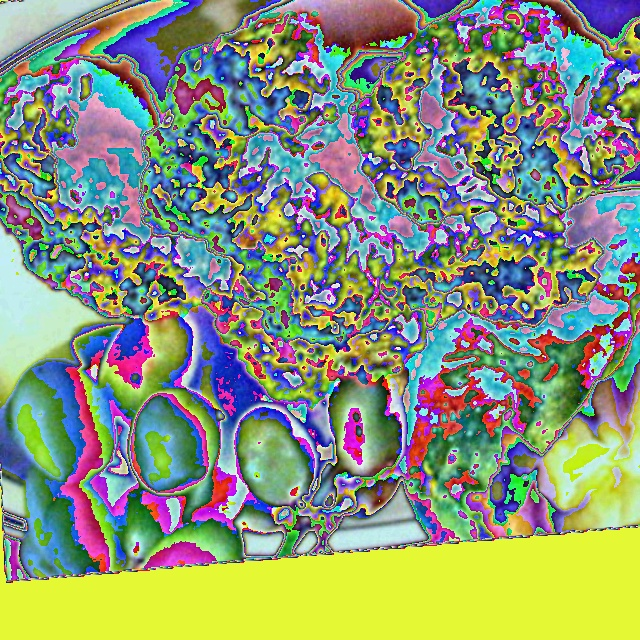background: (0, 0, 640, 580)
